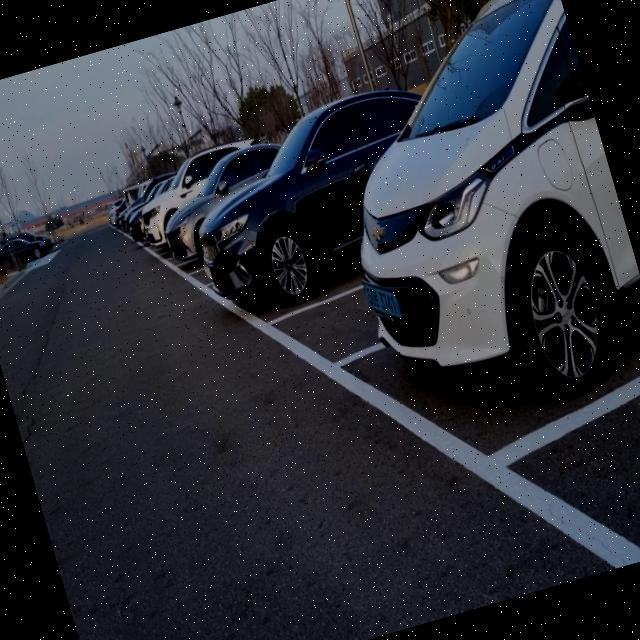Car: (244, 0, 640, 504), (184, 124, 394, 346), (160, 220, 210, 284), (136, 198, 174, 267)
Vacant: (236, 222, 388, 395)
